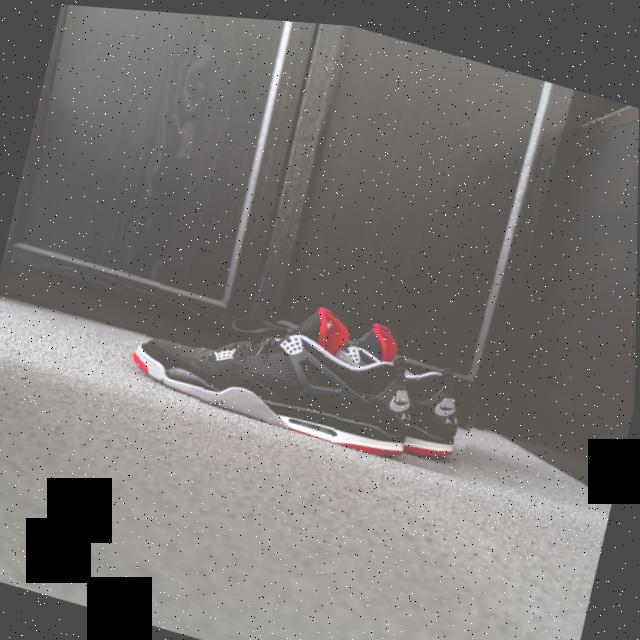shoe: (103, 248, 492, 473)
